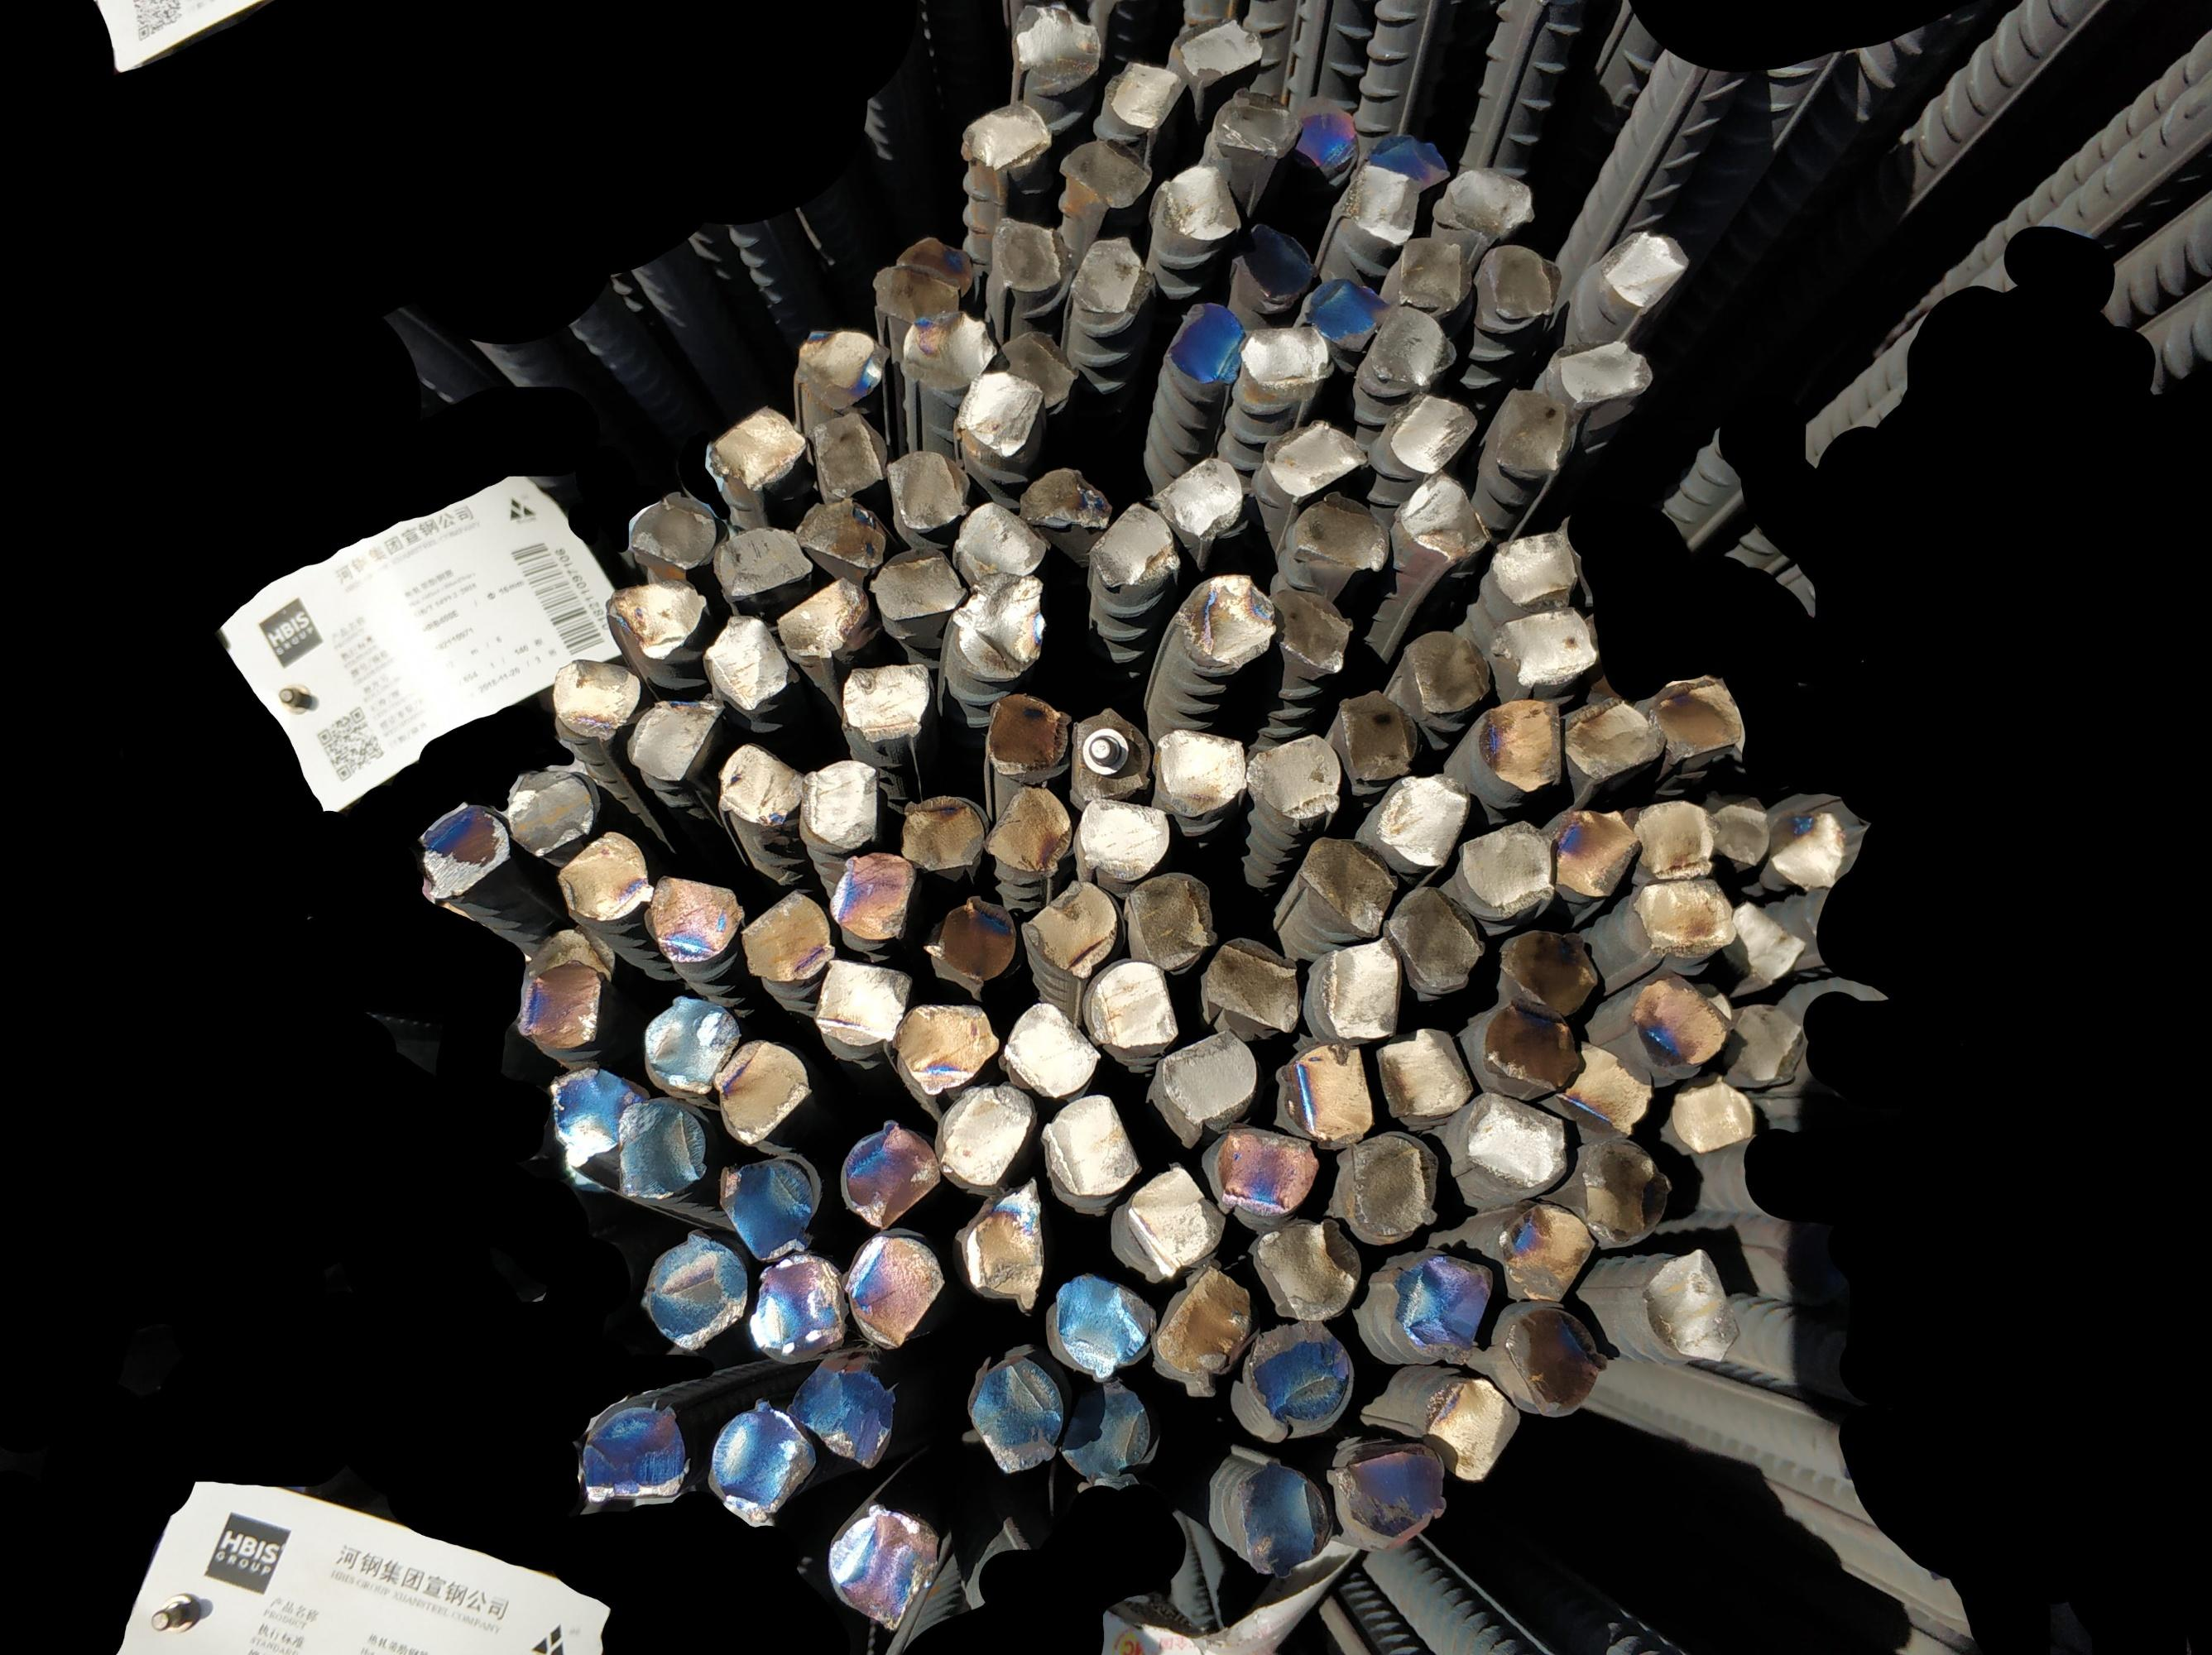bar: (704, 1396, 815, 1535), (639, 1227, 751, 1354), (825, 1500, 933, 1631), (959, 1347, 1065, 1476), (785, 1356, 900, 1471), (1501, 1304, 1611, 1424), (1232, 1452, 1329, 1582), (709, 1036, 818, 1151), (1420, 1370, 1526, 1485), (841, 1229, 938, 1353), (1050, 1267, 1157, 1379), (1388, 1252, 1500, 1358), (745, 1250, 850, 1363), (841, 1114, 944, 1229), (961, 1175, 1046, 1313), (1128, 1163, 1232, 1274), (1039, 1088, 1143, 1198), (1385, 881, 1489, 991), (1249, 1314, 1350, 1427), (1644, 1245, 1741, 1361), (716, 1151, 820, 1259), (579, 1401, 688, 1504), (1253, 1217, 1362, 1319), (1156, 1264, 1251, 1380), (1197, 934, 1307, 1034), (1338, 1130, 1440, 1236), (1156, 1029, 1262, 1132), (1018, 874, 1121, 980), (933, 1081, 1034, 1189), (1336, 1443, 1446, 1542), (1296, 829, 1395, 939), (1209, 1121, 1322, 1215), (1055, 1375, 1152, 1483), (890, 1000, 1001, 1093), (1581, 1133, 1673, 1246), (1467, 1088, 1569, 1189), (544, 1064, 643, 1168), (1498, 1198, 1597, 1302), (954, 568, 1046, 680), (1124, 866, 1216, 977), (1175, 568, 1275, 669), (417, 800, 513, 904), (1560, 1027, 1651, 1137), (737, 883, 836, 982), (641, 993, 737, 1095), (1282, 1040, 1376, 1144), (1376, 1024, 1474, 1123), (553, 826, 653, 921), (617, 1093, 707, 1200), (1308, 937, 1402, 1038), (1262, 414, 1371, 499), (923, 894, 1020, 989), (1456, 817, 1555, 911), (645, 871, 745, 963), (1084, 956, 1180, 1052), (1480, 996, 1578, 1090), (978, 781, 1070, 880), (1006, 1000, 1098, 1099), (1564, 692, 1665, 782), (1498, 928, 1600, 1017), (605, 574, 709, 661), (1639, 967, 1727, 1067), (1374, 774, 1468, 867), (1152, 723, 1246, 817), (1395, 468, 1491, 560), (1546, 805, 1639, 901), (1244, 730, 1341, 821), (1496, 603, 1602, 685), (1084, 499, 1182, 588), (952, 365, 1043, 457), (792, 325, 888, 412), (624, 699, 723, 782), (1291, 494, 1392, 575), (507, 765, 598, 855), (813, 951, 905, 1040), (829, 852, 916, 946), (1152, 454, 1246, 541), (1632, 876, 1736, 954), (1070, 702, 1152, 801), (716, 739, 806, 827), (1077, 794, 1169, 881), (705, 402, 801, 485), (1480, 697, 1564, 793), (1385, 389, 1480, 473), (1649, 676, 1745, 760), (773, 574, 871, 655), (702, 610, 784, 708), (1011, 0, 1102, 87), (1161, 297, 1248, 388), (516, 958, 601, 1050), (1402, 628, 1491, 715), (1672, 1066, 1758, 1154), (1626, 794, 1717, 880), (902, 309, 996, 391), (839, 661, 933, 742), (1340, 687, 1421, 781), (1267, 582, 1350, 673), (884, 447, 971, 532), (1369, 302, 1454, 389), (553, 657, 641, 741), (1600, 228, 1691, 309), (956, 99, 1053, 174), (867, 544, 964, 619), (985, 690, 1070, 775), (1724, 897, 1807, 984), (996, 325, 1076, 415), (808, 410, 888, 499), (801, 758, 878, 850), (1491, 382, 1567, 475), (1058, 134, 1152, 209), (1732, 994, 1804, 1092), (1156, 160, 1244, 238), (1069, 233, 1152, 315), (1343, 162, 1425, 245), (990, 210, 1070, 296), (957, 499, 1046, 575), (712, 527, 810, 596), (1482, 238, 1562, 322), (1237, 219, 1317, 302), (1553, 341, 1654, 407), (1439, 165, 1534, 235), (1241, 322, 1331, 395), (794, 499, 886, 570), (898, 794, 982, 873), (1767, 805, 1844, 890), (629, 494, 716, 568), (1176, 14, 1265, 87), (1288, 96, 1359, 186), (1017, 464, 1114, 530), (1493, 528, 1578, 603), (1307, 275, 1388, 351), (1213, 87, 1301, 156), (1395, 235, 1475, 311), (1110, 59, 1189, 132), (523, 925, 615, 984), (871, 264, 961, 323), (1364, 130, 1449, 191), (893, 235, 973, 299), (1706, 789, 1772, 866), (1689, 970, 1732, 1031)
